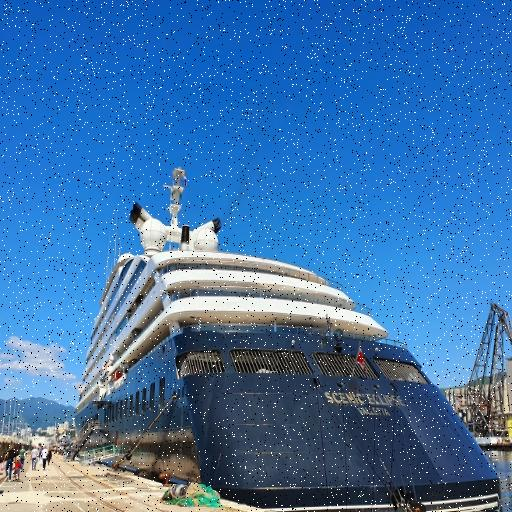cruises: (64, 162, 508, 512)
